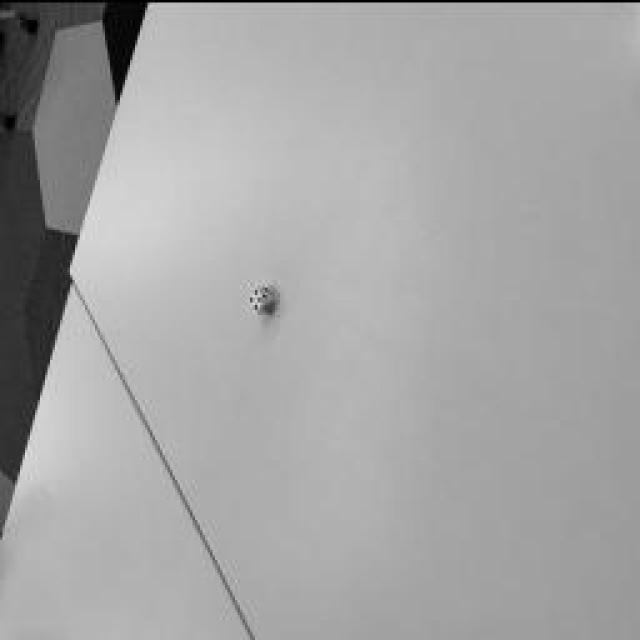dice_4: (250, 285, 265, 310)
